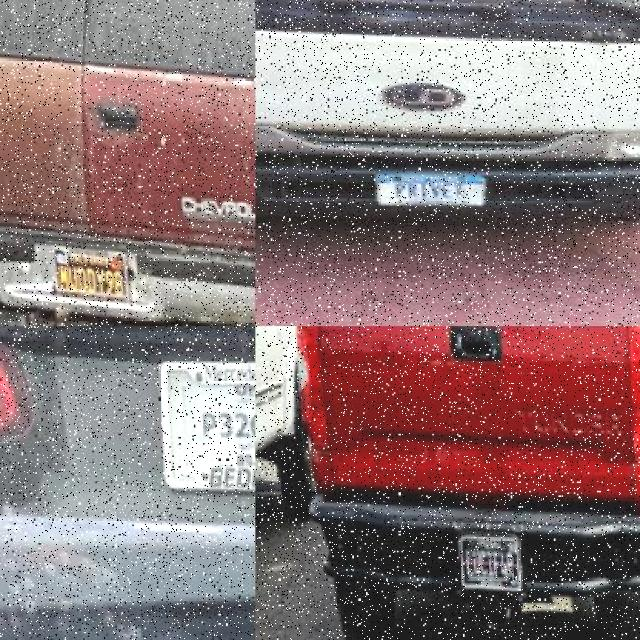licenseplate: (153, 361, 255, 496), (43, 246, 121, 303), (365, 173, 482, 209), (450, 537, 511, 591)
